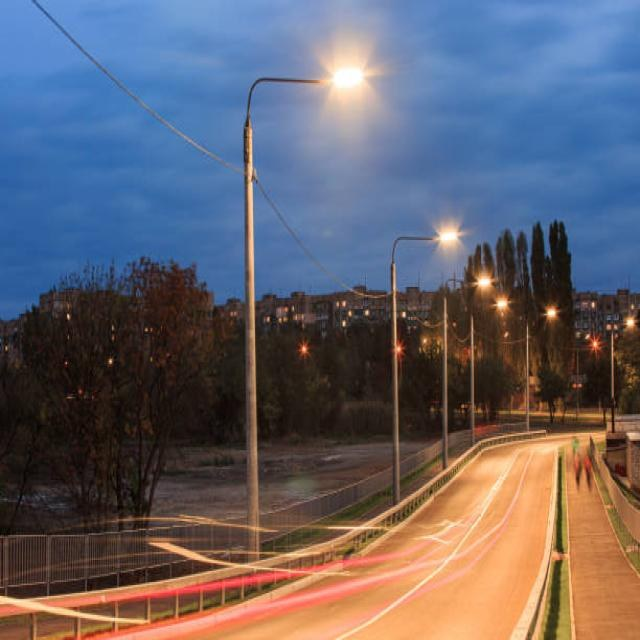acesa: (317, 39, 382, 103), (432, 222, 468, 252), (477, 277, 501, 302), (544, 305, 562, 325), (298, 339, 312, 359)
